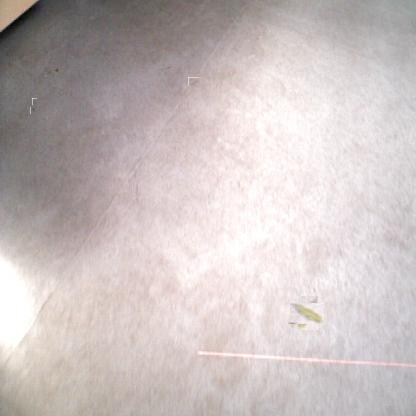dirty: (294, 299, 322, 327)
mark: (160, 64, 170, 74), (132, 181, 138, 197), (188, 77, 198, 86), (289, 320, 296, 327), (52, 66, 60, 72), (30, 106, 35, 115), (32, 98, 37, 105)
